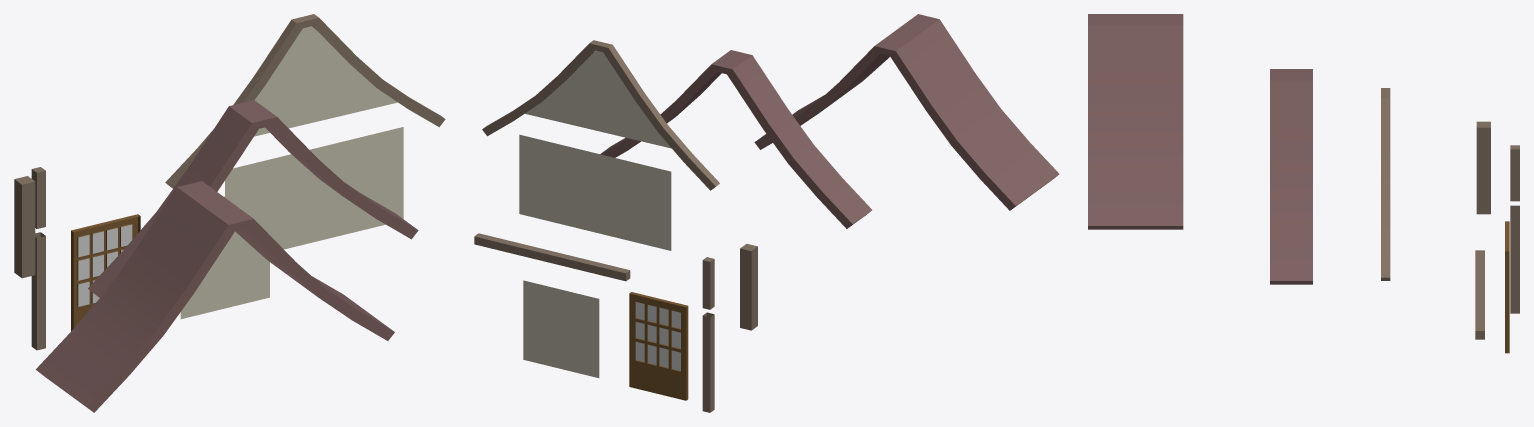
File: example_pieces.fbx
3 renders of one model, left to right at view 1: azimuth 30°, elevation 25°; view 2: azimuth 150°, elevation 25°; view 3: azimuth 270°, elevation 25°, orthographic. The views are drawn at different scales.
Parts seen in each view (by area): view 1: Column_8x40sq80, Wall4x20, Column_8x40sq78, Column_8x40sq79, Door4x5, Wall4x19, Column__x40sq6, Column_4x50sq11; view 2: Column_8x40sq80, Wall4x20, Column_8x40sq78, Column_8x40sq79, Wall4x19, Door4x5, Column_8x40sq6, Column__x40sq6, Column_4x50sq11; view 3: Column_8x40sq80, Column_8x40sq79, Column_8x40sq78, Column__x40sq6, Column_4x50sq11, Column_8x40sq6, Door4x5.
Part boxes in pixels (x1,y1,x2,y2): Column_8x40sq80: (36,181,394,412); Wall4x20: (225,127,403,263); Column_8x40sq78: (165,14,445,188); Column_8x40sq79: (88,100,418,297); Door4x5: (71,214,140,331); Wall4x19: (180,247,269,319); Column__x40sq6: (31,167,45,350); Column_4x50sq11: (14,176,35,278); Column_8x40sq80: (754,14,1059,210); Wall4x20: (519,134,671,250); Column_8x40sq78: (482,40,719,190); Column_8x40sq79: (600,50,871,228); Wall4x19: (523,280,599,377); Door4x5: (629,292,688,400); Column_8x40sq6: (474,233,630,281); Column__x40sq6: (702,257,714,412); Column_4x50sq11: (740,244,757,330); Column_8x40sq80: (1088,14,1183,229); Column_8x40sq79: (1270,69,1312,284); Column_8x40sq78: (1381,88,1390,280); Column__x40sq6: (1510,145,1519,313); Column_4x50sq11: (1476,121,1490,214); Column_8x40sq6: (1475,250,1484,339); Door4x5: (1505,221,1509,353).
Bounding box in the file's own units: 2313 × 1421 × 1810.
